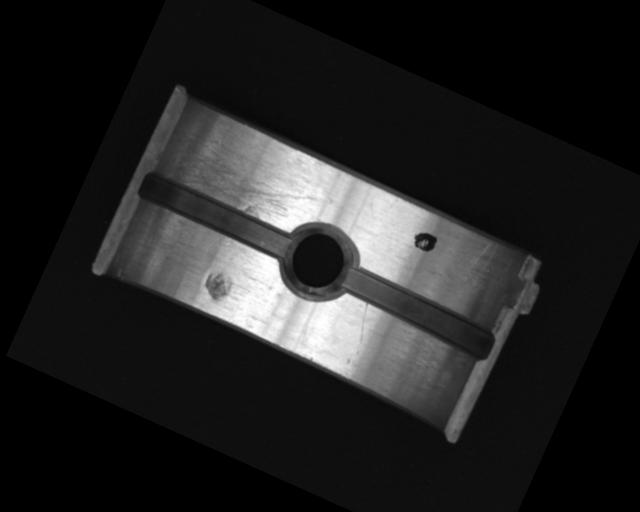blot: (410, 227, 440, 255)
bruise: (199, 266, 236, 304)
gap: (331, 260, 501, 365), (134, 168, 298, 265)
hole: (267, 212, 365, 312)
nick: (345, 302, 379, 356)
scratch: (155, 120, 324, 239)
